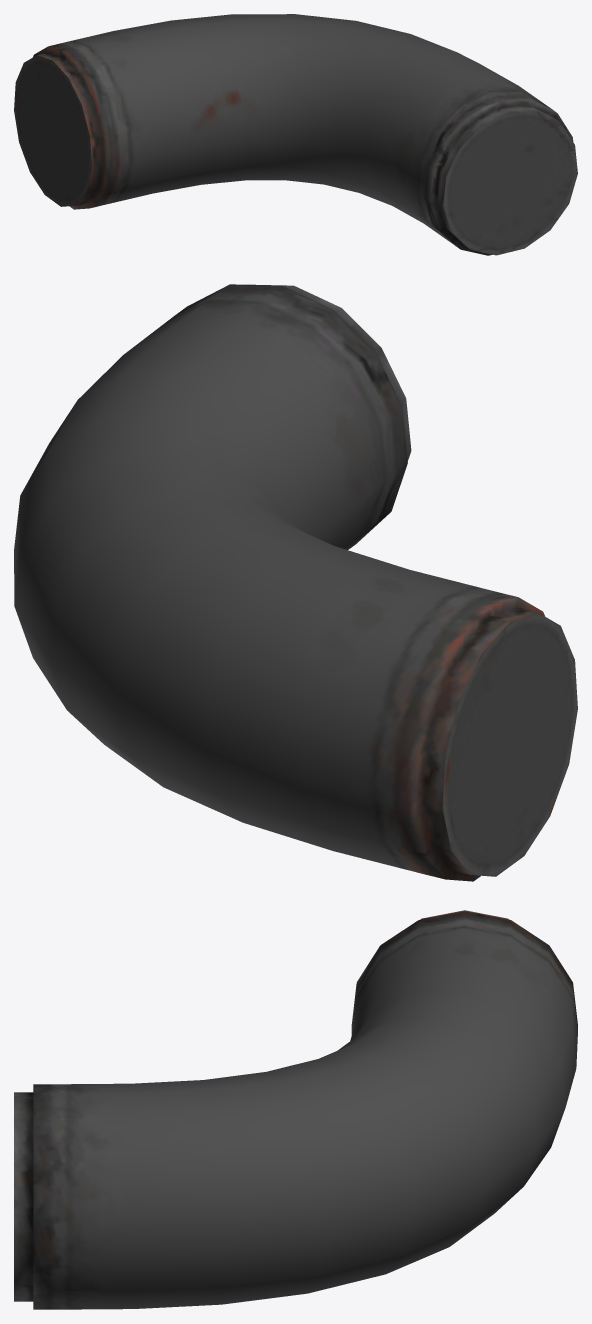
The model's file is SteelPipe_Turn.dae.
3 views of the same model, one above another, from view 1: azimuth 30°, elevation 25°; view 2: azimuth 150°, elevation 25°; view 3: azimuth 270°, elevation 25° (orthographic). The views are drawn at different scales.
Parts seen in each view (by area): view 1: polySurface393; view 2: polySurface393; view 3: polySurface393.
Boxes of the visible parts, x1,y1,x2,y2 form: polySurface393: [14, 14, 577, 255]; polySurface393: [14, 284, 577, 881]; polySurface393: [14, 910, 577, 1309].
Size of the model in its own units: 1.88 by 0.7446 by 1.87.
Materials: 1 (1 with a texture image).
